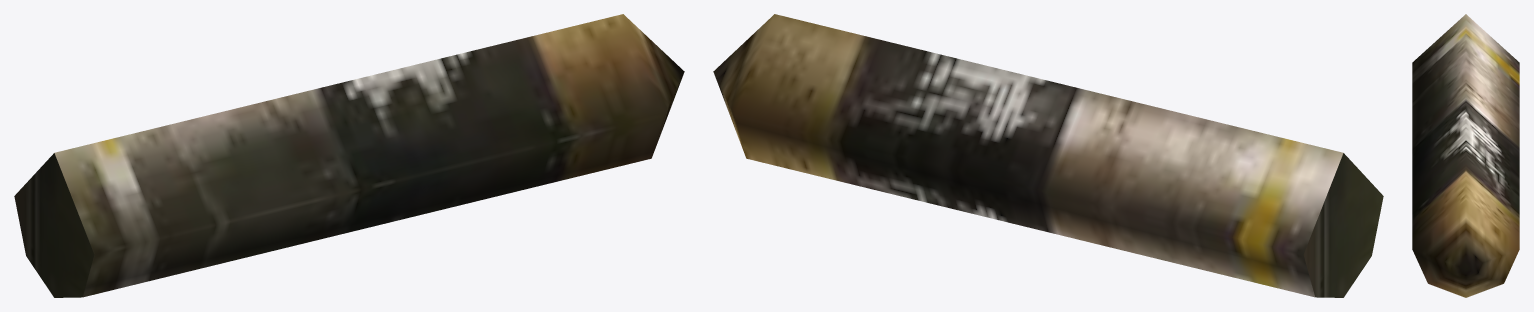
Rendered from projectile_at4.glb.
3 renders of one model, left to right at view 1: azimuth 30°, elevation 25°; view 2: azimuth 150°, elevation 25°; view 3: azimuth 270°, elevation 25°, orthographic. The views are drawn at different scales.
Parts seen in each view (by area): view 1: projectile_at4; view 2: projectile_at4; view 3: projectile_at4.
Part boxes in pixels (<box>): projectile_at4: <box>14,14,684,297</box>; projectile_at4: <box>713,14,1383,297</box>; projectile_at4: <box>1412,14,1519,297</box>.
Size of the model in its own units: 0.266 by 0.0585 by 0.0585.
Materials: 1 (1 with a texture image).
